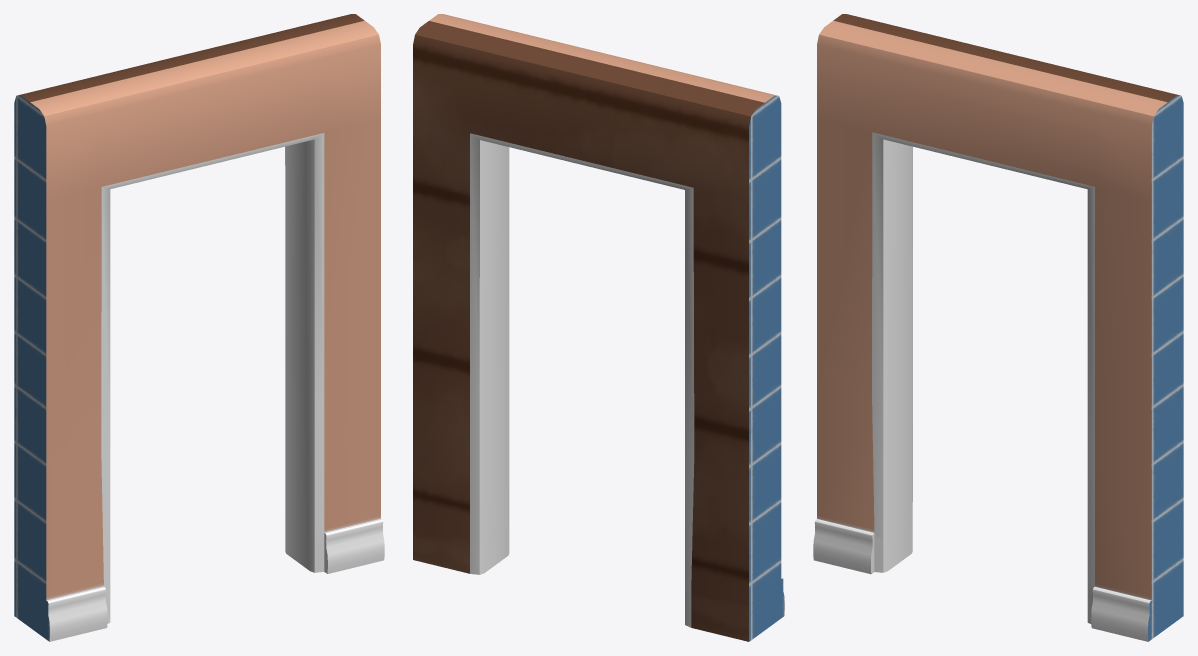
The model's file is Wall_outer_DoorWay_02.fbx.
3 renders of one model, left to right at view 1: azimuth 30°, elevation 25°; view 2: azimuth 150°, elevation 25°; view 3: azimuth 330°, elevation 25°, orthographic.
Visible parts, largest first — view 1: Door.001; view 2: Door.001; view 3: Door.001.
Part boxes in pixels (box(x1,y1,x2,y2)): Door.001: box(14, 14, 384, 641); Door.001: box(413, 14, 784, 641); Door.001: box(813, 14, 1183, 641).
Size of the model in its own units: 100 by 150 by 18.46.
